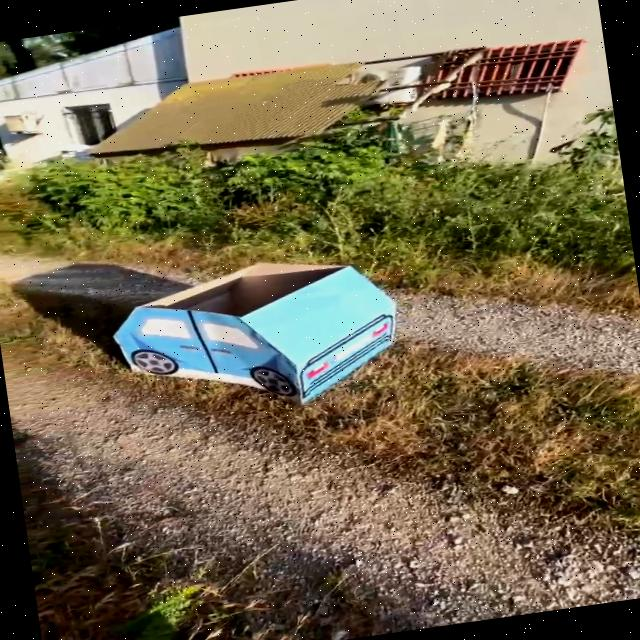blue_car: (67, 217, 442, 455)
